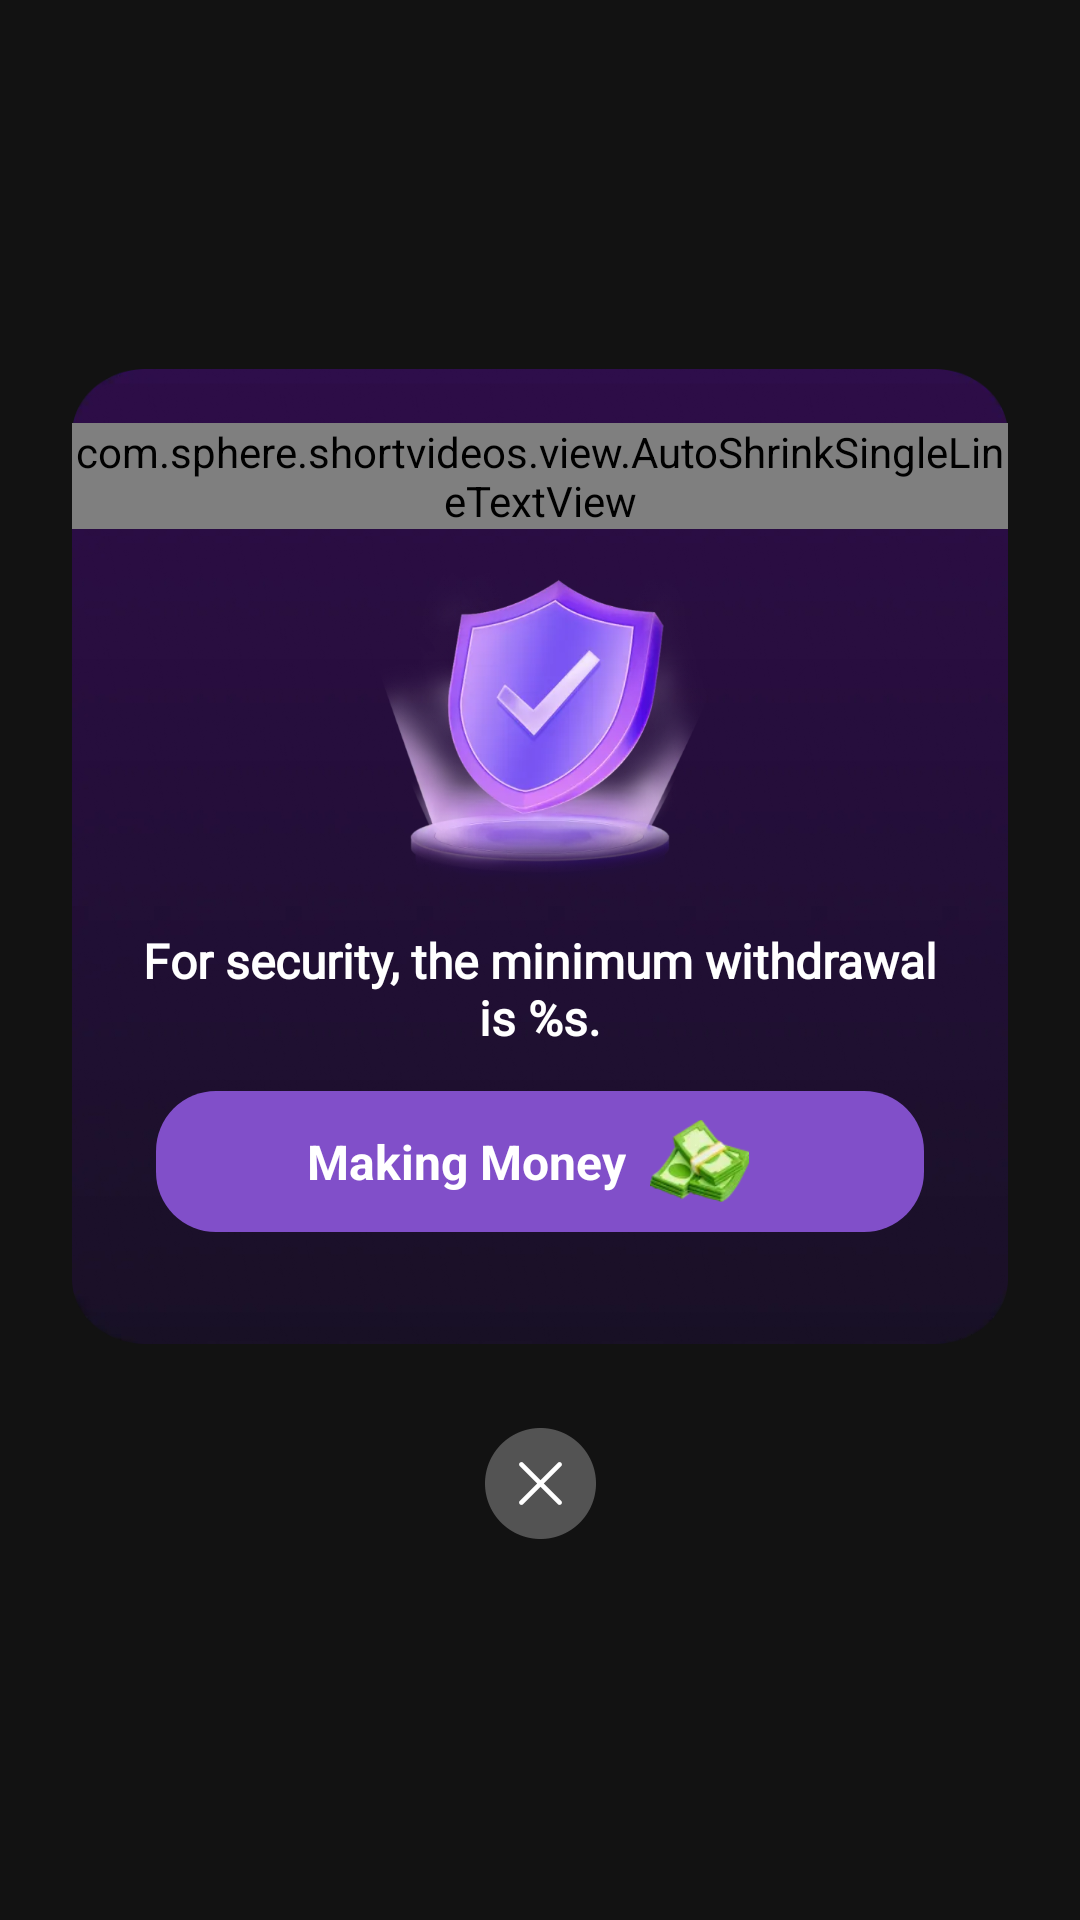

Screen size 1080x1920. Icon name, then its center in pixels as [x,y]:
close: [540,1483]
